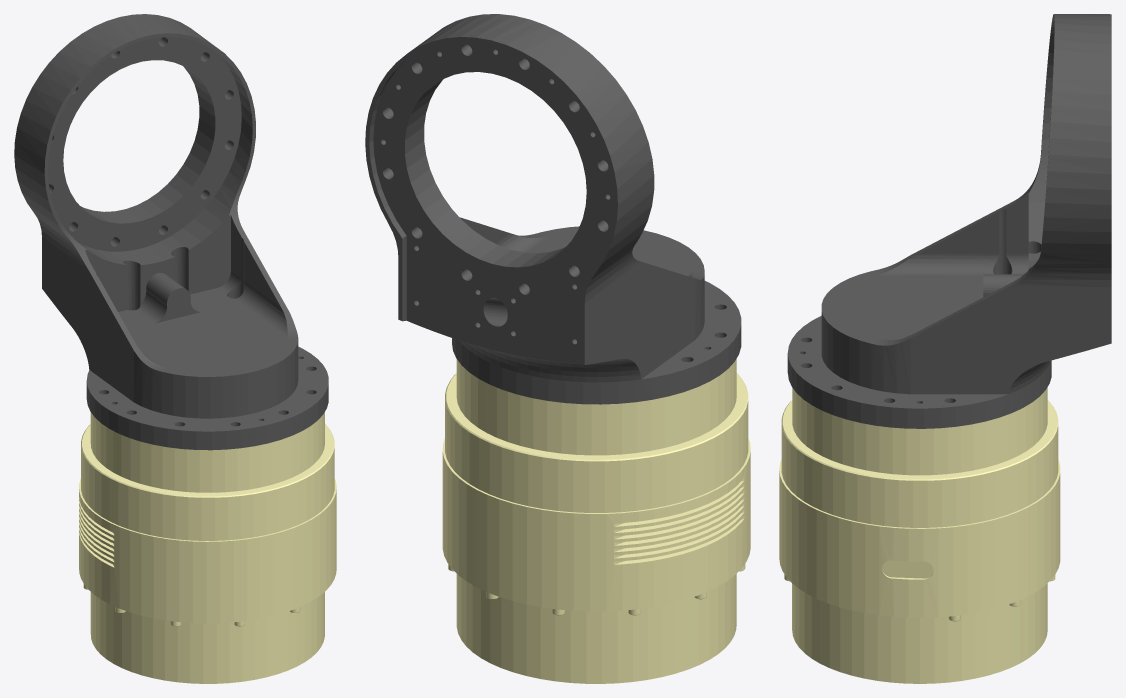
The picture shows the model from 3 angles, left to right: view 1: azimuth 30°, elevation 25°; view 2: azimuth 150°, elevation 25°; view 3: azimuth 270°, elevation 25°; orthographic projection. The views are drawn at different scales.
Parts seen in each view (by area): view 1: link1; view 2: link1; view 3: link1.
Part boxes in pixels (left/top/right/bottom): link1: left=14, top=14, right=336, bottom=683; link1: left=365, top=14, right=750, bottom=683; link1: left=779, top=14, right=1111, bottom=683.
Size of the model in its own units: 0.132 by 0.156 by 0.3205.
